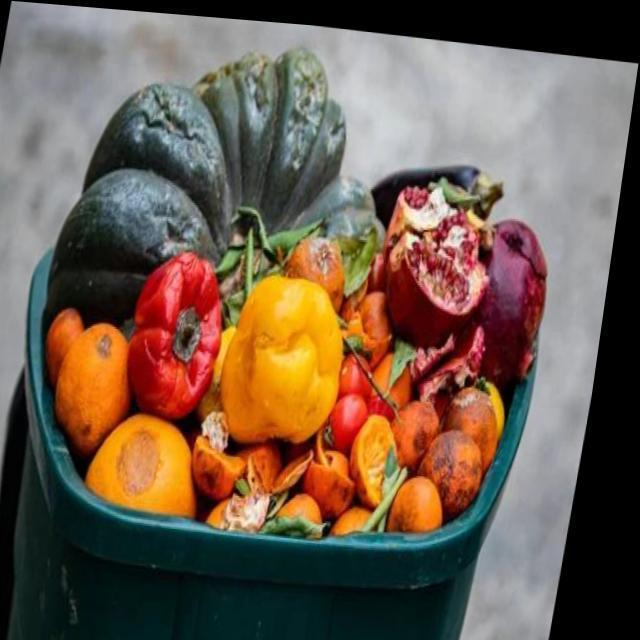Garbage: (53, 43, 552, 528)
